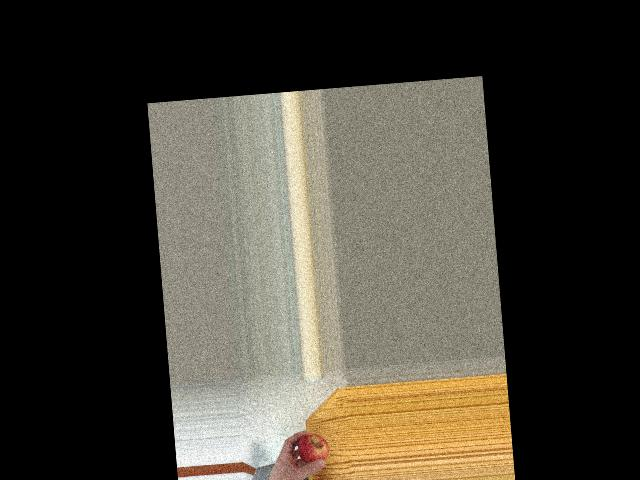apple: (295, 429, 329, 470)
